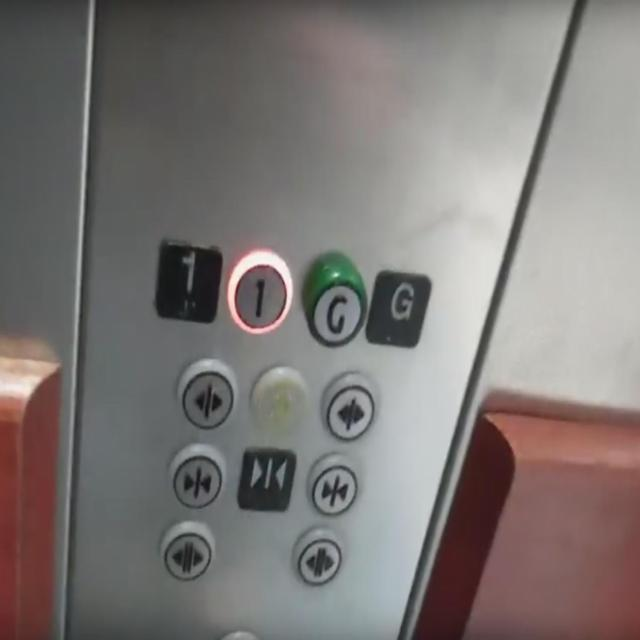1: (153, 235, 223, 323), (228, 247, 294, 336)
G: (302, 250, 367, 349), (365, 269, 432, 348)
blur: (249, 363, 308, 436)
close: (167, 442, 225, 510), (236, 446, 296, 511), (306, 451, 359, 517)
open: (177, 356, 240, 434), (321, 371, 380, 443), (160, 520, 216, 583), (290, 525, 343, 586)
